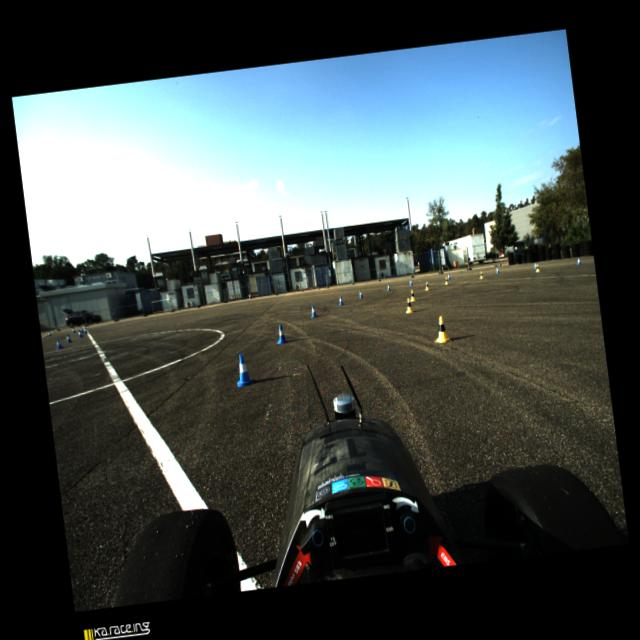blue_cone: (233, 352, 254, 387), (275, 322, 287, 343), (54, 337, 64, 349), (310, 304, 317, 317), (65, 333, 72, 343), (337, 295, 343, 305), (78, 329, 83, 337), (576, 256, 580, 264), (358, 290, 362, 298), (82, 326, 86, 334), (533, 262, 537, 268), (495, 266, 499, 272), (446, 274, 450, 280), (408, 279, 412, 285), (386, 284, 390, 290), (79, 326, 83, 332), (72, 327, 76, 332), (48, 330, 51, 336)
yellow_cone: (431, 315, 450, 344), (404, 297, 413, 313), (409, 289, 415, 301), (423, 281, 429, 291), (534, 264, 540, 272), (478, 270, 483, 278), (443, 276, 448, 284)
